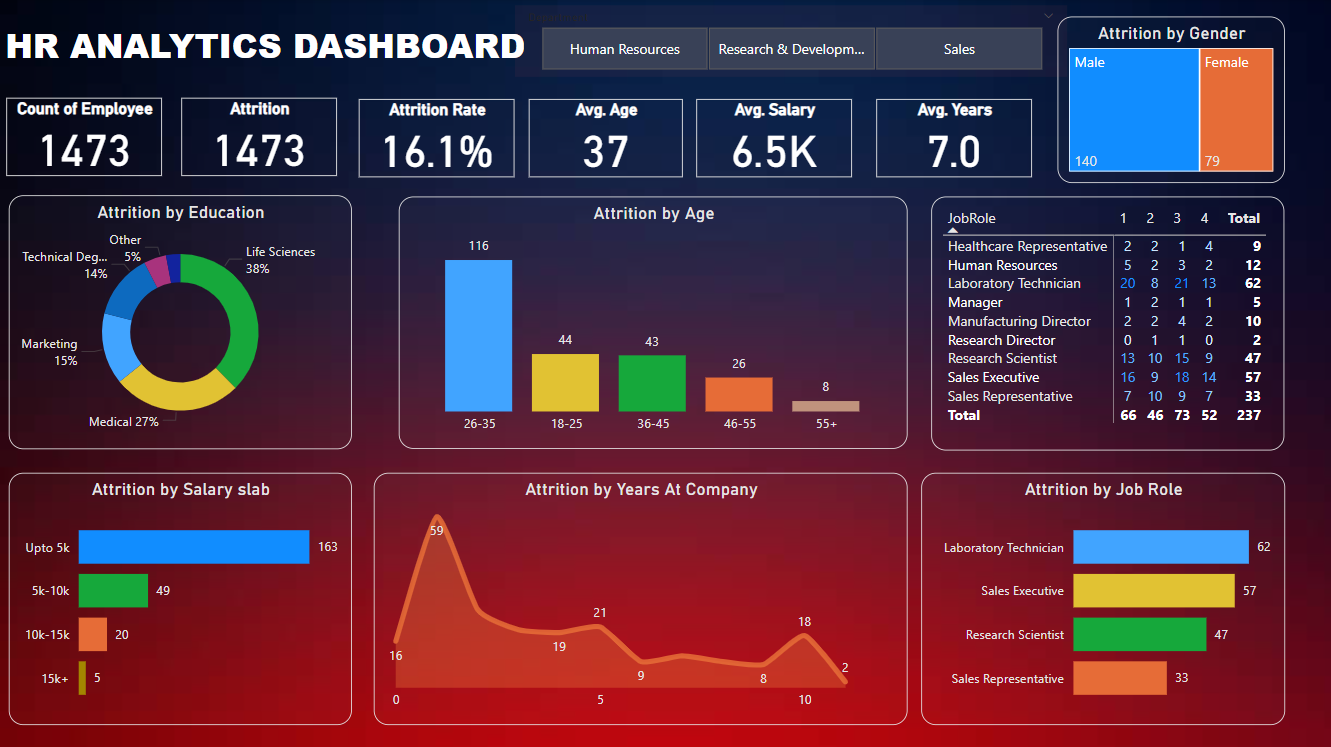

Layout of this report page (visuals, bound fields, positions):
{"tool":"tableau","page":{"name":"HR ANALYTICS DASHBOARD","canvas":[1580,900],"ordinal":0},"visuals":[{"type":"image","param":"D:/Portfolio/HR background.png","box":[8,8,1564,884]},{"type":"text","box":[23,22,879,63]},{"type":"filter","title":"Depatment Wise Attrition","param":"[federated.0x74kyo076xqjf13mh5mf0w4dhr7].[none:Education:nk]","box":[936,29,160,51]},{"type":"worksheet","title":"KPI","mark":"Automatic","box":[20,99,1324,131]},{"type":"worksheet","title":"Attrition by Gender","mark":"Circle","rows":["Gender"],"cols":["Calculation_1064538392656302080","Calculation_1064538392656302080"],"box":[1357,99,205,133]},{"type":"parameter","param":"[Parameters].[Parameter 1]","box":[807,248,217,40]},{"type":"worksheet","title":"No of Employee by Age Group","mark":"Automatic","rows":["Employee Count"],"cols":["Age (bin)"],"box":[485,251,541,354]},{"type":"worksheet","title":"Depatment Wise Attrition","mark":"Pie","box":[17,253,452,351]},{"type":"worksheet","title":"Job Satisfaction Rating","mark":"Square","rows":["Job Role"],"cols":["Job Satisfaction"],"box":[1043,254,511,350]},{"type":"legend","title":"No of Employee by Age Group","param":"[federated.0x74kyo076xqjf13mh5mf0w4dhr7].[sum:Employee Count:qk]","box":[880,288,140,57]},{"type":"legend","title":"Depatment Wise Attrition","param":"[federated.0x74kyo076xqjf13mh5mf0w4dhr7].[none:Department:nk]","box":[25,519,140,85]},{"type":"worksheet","title":"Education Field Wise Attrition","mark":"Automatic","rows":["Education Field"],"cols":["Calculation_1064538392656302080"],"box":[22,622,425,254]},{"type":"worksheet","title":"Attrition Rate By Gender for Different Groups","mark":"Pie","rows":["Calculation_1064538392684716036","Calculation_1064538392684716036"],"cols":["CF_age band"],"box":[468,624,1088,250]},{"type":"legend","title":"Attrition Rate By Gender for Different Groups","param":"[federated.0x74kyo076xqjf13mh5mf0w4dhr7].[none:Gender:nk]","box":[1196,627,362,27]}]}

Visuals, with their boxes in screenshot pixels (x1, y1, x2, y2), scaled from the page's 1580x900 canvas onto the 1331x747 screenshot:
image: x1=7 y1=7 x2=1324 y2=740
text: x1=19 y1=18 x2=760 y2=71
"Depatment Wise Attrition" filter: x1=788 y1=24 x2=923 y2=66
"KPI" worksheet: x1=17 y1=82 x2=1132 y2=191
"Attrition by Gender" worksheet (Circle marks): x1=1143 y1=82 x2=1316 y2=193
parameter: x1=680 y1=206 x2=863 y2=239
"No of Employee by Age Group" worksheet: x1=409 y1=208 x2=864 y2=502
"Depatment Wise Attrition" worksheet (Pie marks): x1=14 y1=210 x2=395 y2=501
"Job Satisfaction Rating" worksheet (Square marks): x1=879 y1=211 x2=1309 y2=501
"No of Employee by Age Group" legend: x1=741 y1=239 x2=859 y2=286
"Depatment Wise Attrition" legend: x1=21 y1=431 x2=139 y2=501
"Education Field Wise Attrition" worksheet: x1=19 y1=516 x2=377 y2=727
"Attrition Rate By Gender for Different Groups" worksheet (Pie marks): x1=394 y1=518 x2=1311 y2=725
"Attrition Rate By Gender for Different Groups" legend: x1=1008 y1=520 x2=1312 y2=543
